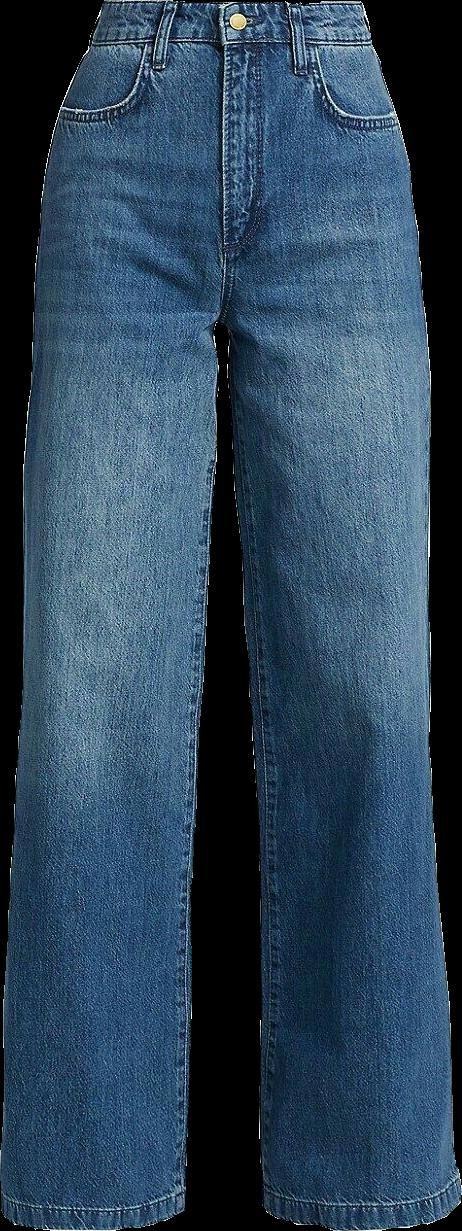Hemline: (263, 1193, 461, 1230), (0, 1195, 192, 1230)
Pantleg: (218, 0, 461, 1230), (0, 0, 224, 1229)
Waistline: (86, 29, 375, 53), (98, 0, 364, 14)
